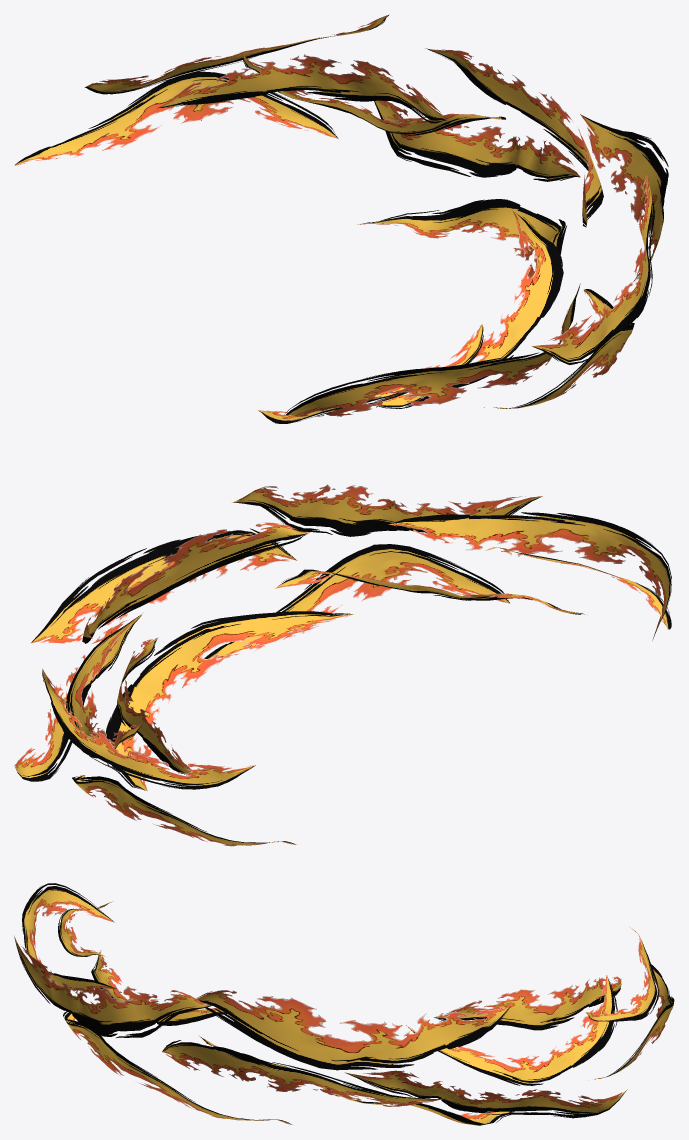
The model's file is 2_Nobori.fbx.
3 views of the same model, one above another, from view 1: azimuth 30°, elevation 25°; view 2: azimuth 150°, elevation 25°; view 3: azimuth 270°, elevation 25° (orthographic). The views are drawn at different scales.
Visible parts, largest first — view 1: SM_e_Skl_Fi_2Nob_Fire000; view 2: SM_e_Skl_Fi_2Nob_Fire000; view 3: SM_e_Skl_Fi_2Nob_Fire000.
Part boxes in pixels (bbox=[...]): SM_e_Skl_Fi_2Nob_Fire000: bbox=[14, 14, 668, 423]; SM_e_Skl_Fi_2Nob_Fire000: bbox=[14, 484, 671, 846]; SM_e_Skl_Fi_2Nob_Fire000: bbox=[14, 883, 674, 1125].
Size of the model in its own units: 415 by 158 by 556.
